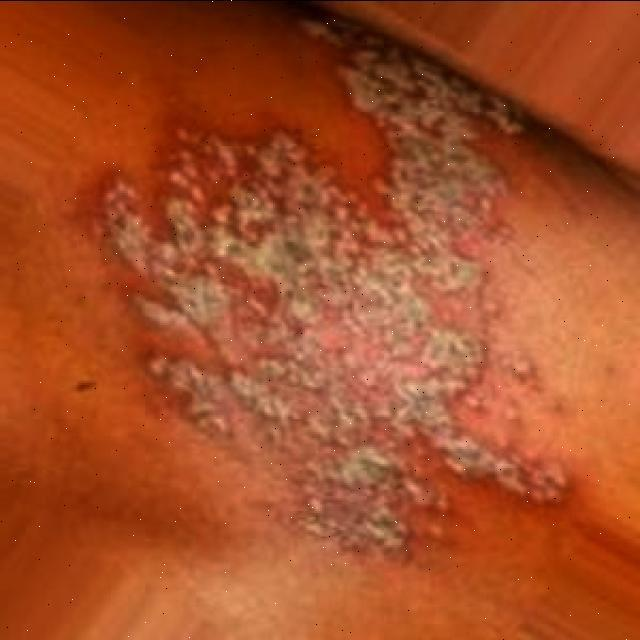Shingles: (100, 0, 575, 555)
